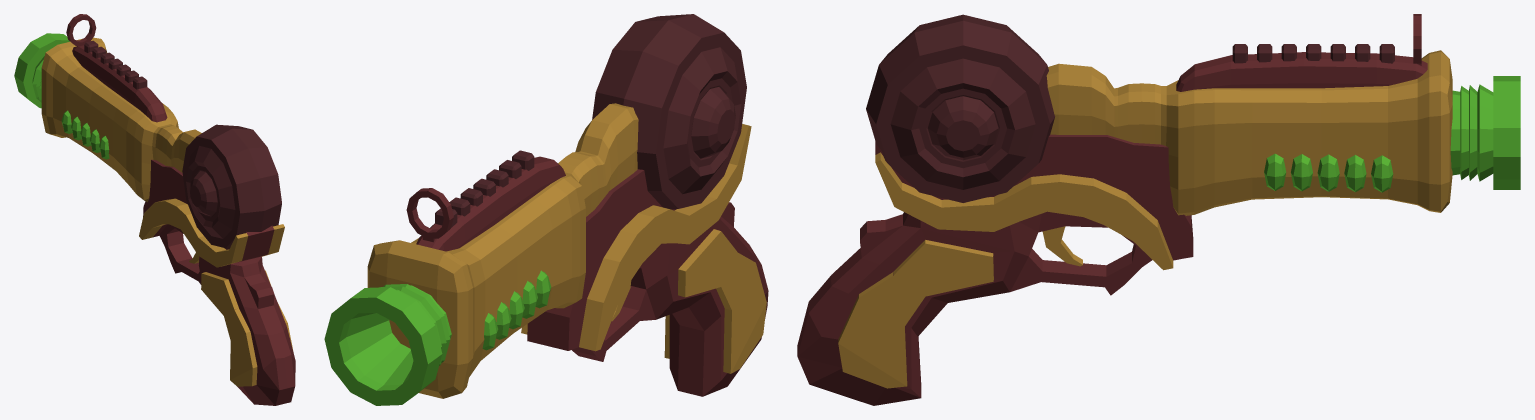
File: ray-gun.glb
3 views of the same model, side by side, from view 1: azimuth 30°, elevation 25°; view 2: azimuth 150°, elevation 25°; view 3: azimuth 270°, elevation 25° (orthographic). The views are drawn at different scales.
Parts seen in each view (by area): view 1: RayGun; view 2: RayGun; view 3: RayGun.
Boxes of the visible parts, x1=… form: RayGun: x1=14, y1=14, x2=295, y2=405; RayGun: x1=324, y1=14, x2=768, y2=405; RayGun: x1=797, y1=14, x2=1520, y2=405.
Bounding box in the file's own units: 0.5932 × 1.97 × 3.36.
